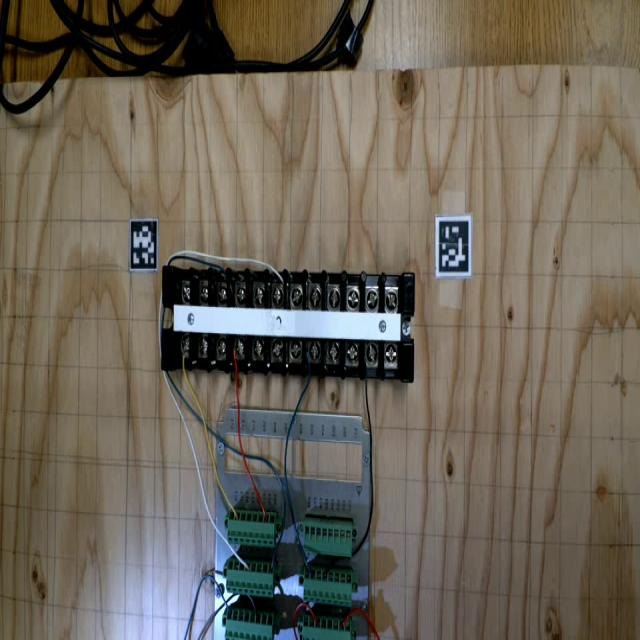Phillips_Block: (157, 261, 419, 382)
Terminal_2: (301, 566, 355, 607), (224, 558, 277, 597), (226, 508, 277, 548), (225, 608, 273, 640), (302, 614, 351, 640)
